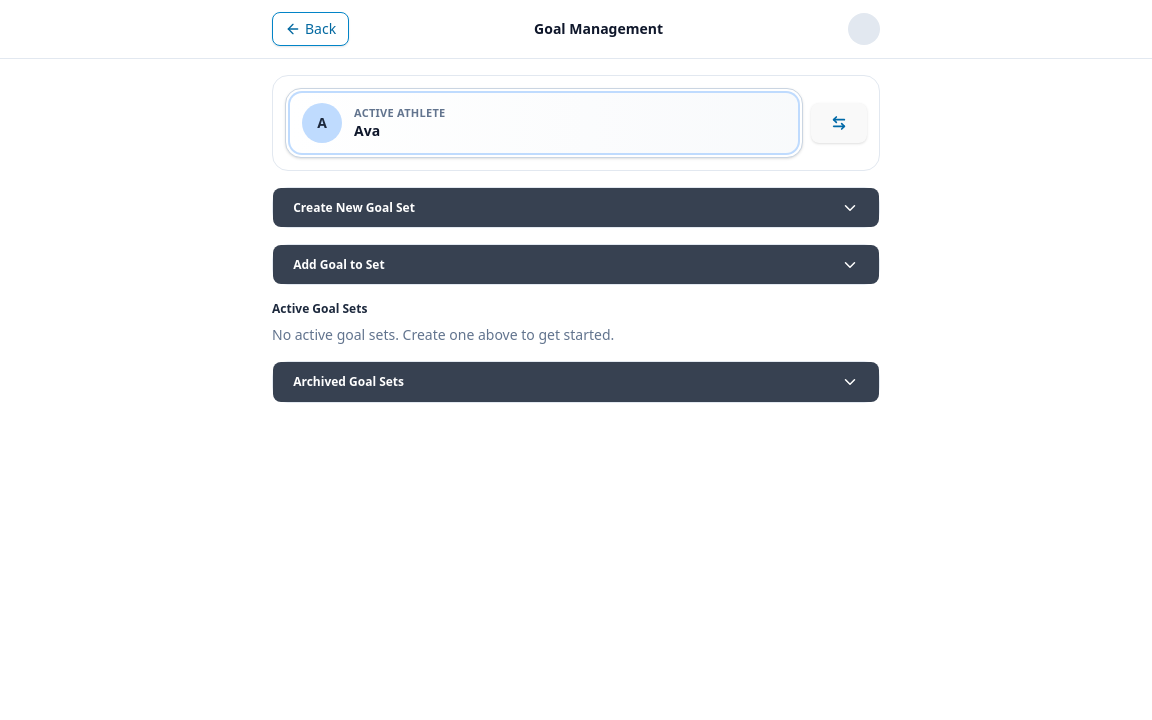
GoalsManager Component › should sort archived goal sets by most recent archive date
This screenshot has width=1152, height=720.
Click the button "Archived Goal Sets" at [349, 381], box x1=273 y1=362 x2=879 y2=402
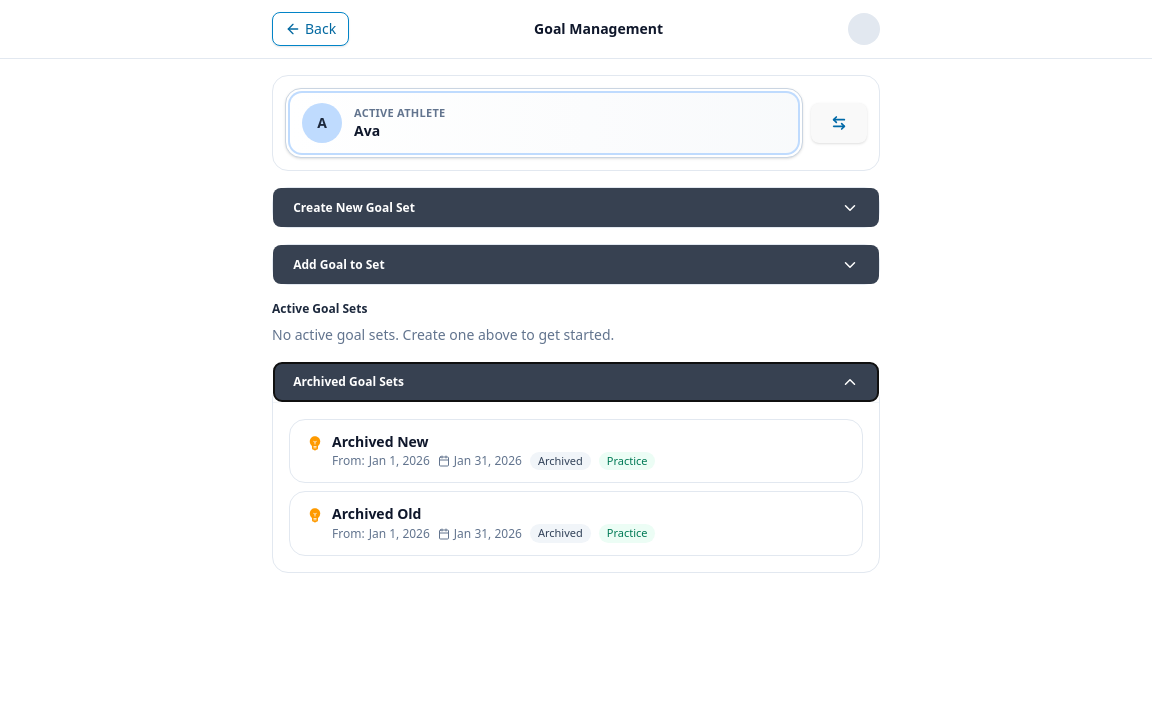
Check: the text "Archived New" is shown, box x1=332 y1=432 x2=428 y2=451
Check: the text "Archived Old" is shown, box x1=332 y1=504 x2=421 y2=523
